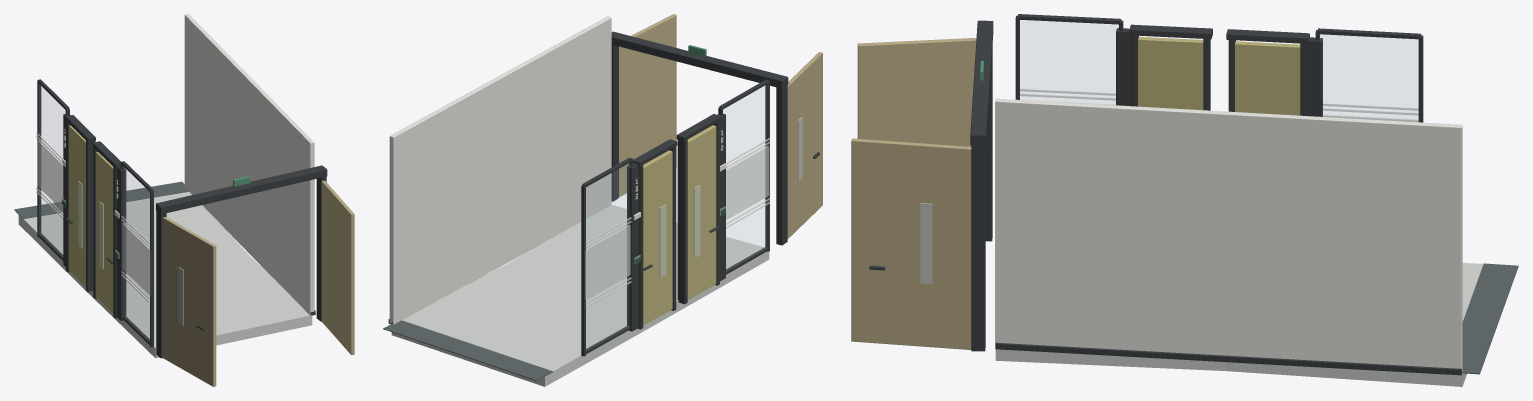
File: viewer-connector-102.glb
The picture shows the model from 3 angles, left to right: view 1: azimuth 30°, elevation 25°; view 2: azimuth 150°, elevation 25°; view 3: azimuth 270°, elevation 25°; orthographic projection. The views are drawn at different scales.
Parts seen in each view (by area): view 1: connector-102-architecture-006, connector-102-ground-013, connector-102-architecture-014, connector-102-architecture-002, connector-102-architecture-004, connector-102-architecture-003, connector-102-architecture-009, connector-102-ground-011, connector-102-architecture-000, connector-102-architecture-012, connector-102-architecture-010; view 2: connector-102-architecture-006, connector-102-ground-013, connector-102-architecture-002, connector-102-architecture-014, connector-102-architecture-004, connector-102-architecture-003, connector-102-architecture-009, connector-102-ground-011, connector-102-architecture-012, connector-102-architecture-000; view 3: connector-102-architecture-006, connector-102-architecture-014, connector-102-architecture-002, connector-102-architecture-003, connector-102-architecture-004, connector-102-ground-013, connector-102-ground-011, connector-102-architecture-000, connector-102-architecture-010.
Part boxes in pixels (box(x1,y1,x2,y2)): connector-102-architecture-006: box(62, 14, 314, 315); connector-102-ground-013: box(18, 192, 312, 358); connector-102-architecture-014: box(162, 180, 354, 386); connector-102-architecture-002: box(37, 79, 327, 358); connector-102-architecture-004: box(69, 125, 113, 313); connector-102-architecture-003: box(39, 84, 149, 340); connector-102-architecture-009: box(37, 140, 150, 295); connector-102-ground-011: box(14, 181, 188, 219); connector-102-architecture-000: box(36, 132, 149, 302); connector-102-architecture-012: box(78, 181, 103, 269); connector-102-architecture-010: box(178, 267, 183, 325); connector-102-architecture-006: box(389, 16, 726, 324); connector-102-ground-013: box(391, 205, 769, 386); connector-102-architecture-002: box(388, 31, 819, 356); connector-102-architecture-014: box(619, 14, 822, 238); connector-102-architecture-004: box(643, 125, 716, 325); connector-102-architecture-003: box(586, 85, 766, 349); connector-102-architecture-009: box(585, 146, 769, 300); connector-102-ground-011: box(383, 320, 553, 380); connector-102-architecture-012: box(659, 184, 700, 277); connector-102-architecture-000: box(585, 138, 770, 307); connector-102-architecture-006: box(995, 98, 1462, 373); connector-102-architecture-014: box(851, 38, 976, 349); connector-102-architecture-002: box(869, 14, 1461, 375); connector-102-architecture-003: box(1020, 20, 1417, 121); connector-102-architecture-004: box(1138, 37, 1300, 115); connector-102-ground-013: box(995, 263, 1483, 386); connector-102-ground-011: box(1462, 263, 1518, 374); connector-102-architecture-000: box(1020, 88, 1418, 115); connector-102-architecture-010: box(920, 203, 932, 284).
Size of the model in its own units: 3.72 by 3.27 by 7.57.
